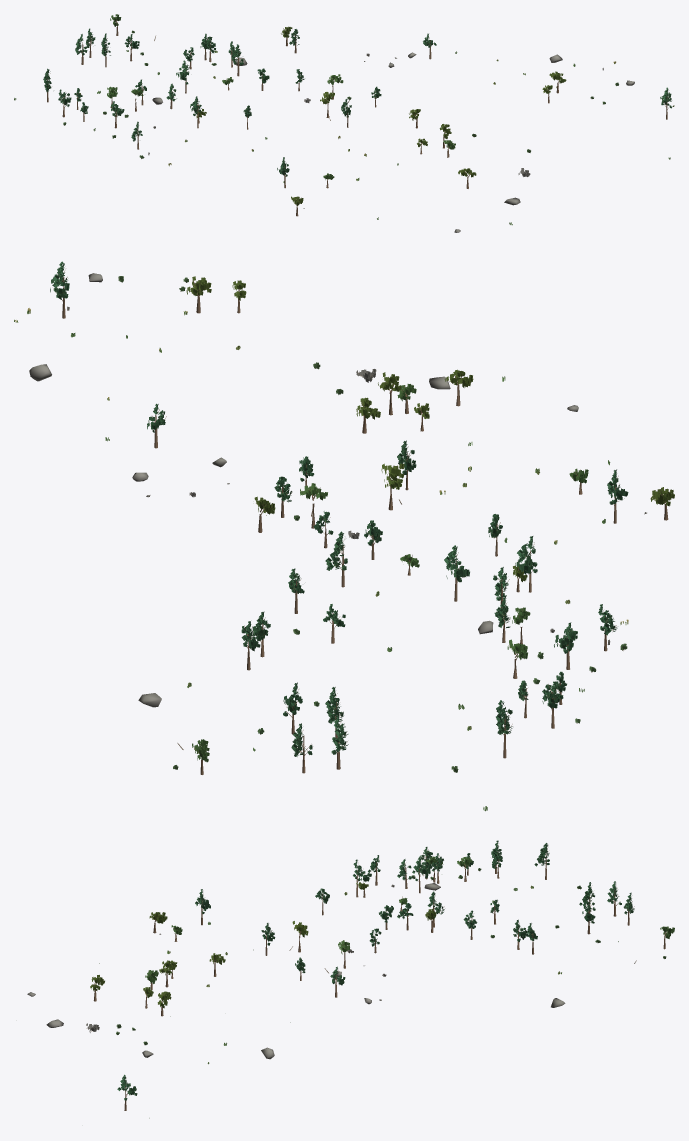
File: arch_land_scatter_c21_22.glb
The picture shows the model from 3 angles, top to bottom: view 1: azimuth 30°, elevation 25°; view 2: azimuth 150°, elevation 25°; view 3: azimuth 270°, elevation 25°; orthographic projection. The views are drawn at different scales.
Parts seen in each view (by area): view 1: arch_land_scatter_c21_22; view 2: arch_land_scatter_c21_22; view 3: arch_land_scatter_c21_22.
Part boxes in pixels (x1=…): arch_land_scatter_c21_22: x1=14, y1=14, x2=674, y2=232; arch_land_scatter_c21_22: x1=14, y1=261, x2=674, y2=811; arch_land_scatter_c21_22: x1=27, y1=840, x2=674, y2=1118.
Bounding box in the file's own units: 187 × 32.8 × 199.
